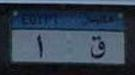1: (35, 32, 46, 60)
qaaf: (87, 33, 107, 61)
